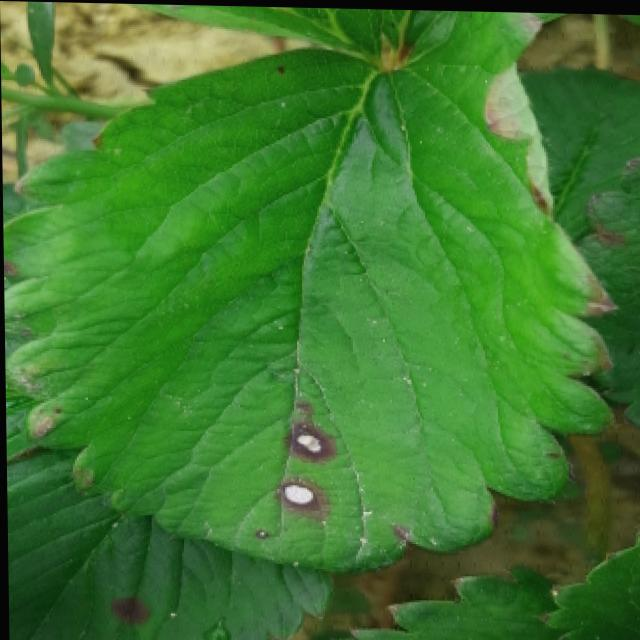Leaf Spot: (3, 46, 620, 572), (5, 446, 328, 640), (316, 561, 568, 640), (573, 147, 640, 430)
